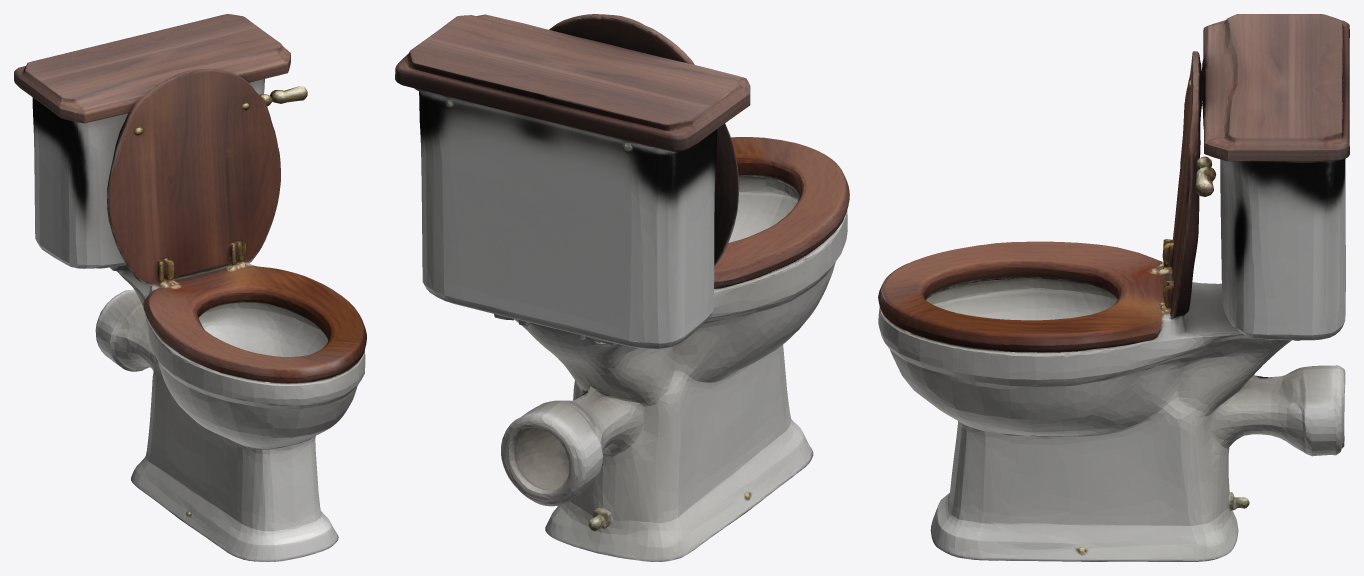
File: toilet.glb
The picture shows the model from 3 angles, left to right: view 1: azimuth 30°, elevation 25°; view 2: azimuth 150°, elevation 25°; view 3: azimuth 270°, elevation 25°; orthographic projection. The views are drawn at different scales.
Parts seen in each view (by area): view 1: world; view 2: world; view 3: world.
Part boxes in pixels (x1,y1,x2,y2): world: [14, 14, 366, 561]; world: [395, 14, 849, 561]; world: [878, 14, 1349, 561].
Bounding box in the file's own units: 0.6072 × 0.9949 × 0.902.
1 material, 1 textured.
